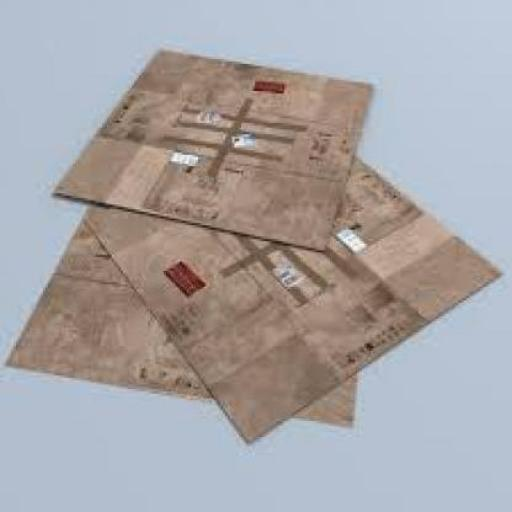cardboard: (82, 164, 496, 437), (2, 223, 355, 428), (45, 45, 371, 250)
